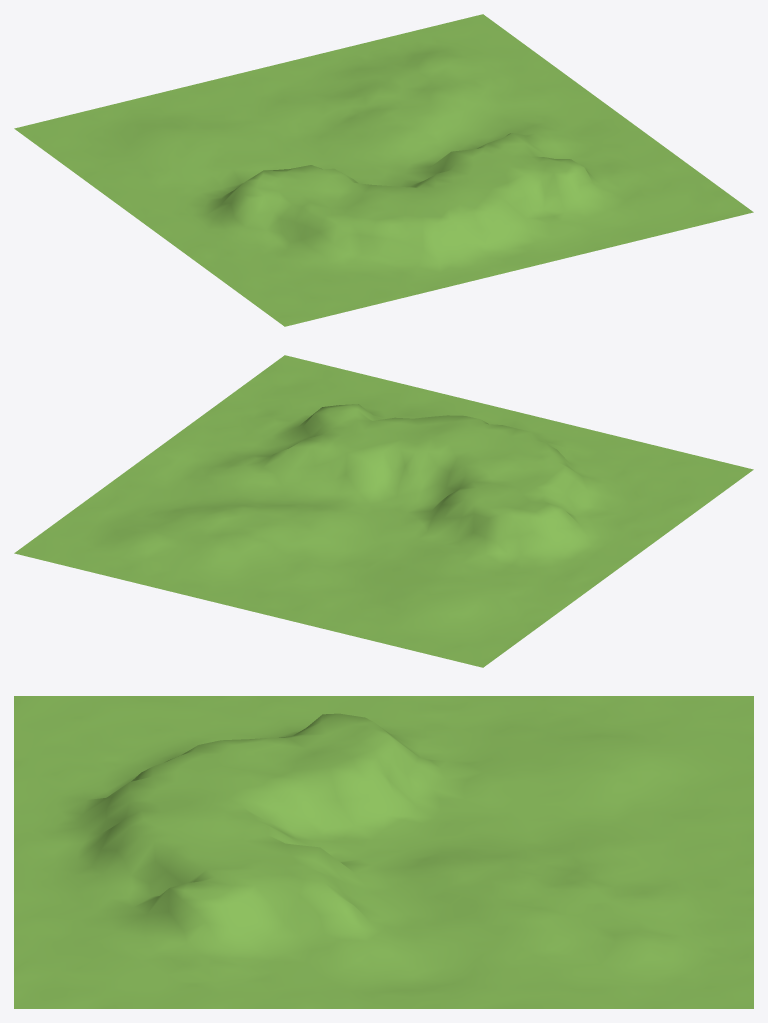
Rendered from MT_Terrain_L_c_05_LOD_S.fbx.
3 renders of one model, top to bottom at view 1: azimuth 30°, elevation 25°; view 2: azimuth 150°, elevation 25°; view 3: azimuth 270°, elevation 25°, orthographic. The views are drawn at different scales.
Visible parts, largest first — view 1: MT_Terrain_L_c_05_LOD0; view 2: MT_Terrain_L_c_05_LOD0; view 3: MT_Terrain_L_c_05_LOD0.
Boxes of the visible parts, <box> form: MT_Terrain_L_c_05_LOD0: <box>14,14,753,326</box>; MT_Terrain_L_c_05_LOD0: <box>14,355,753,667</box>; MT_Terrain_L_c_05_LOD0: <box>14,696,753,1008</box>.
Size of what is drawn, in the model's own units: 10000 by 631 by 10000.
